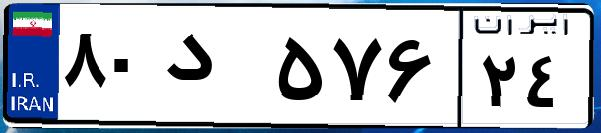0: (110, 28, 158, 98)
2: (475, 38, 525, 113)
4: (525, 38, 570, 115)
5: (270, 28, 330, 110)
6: (385, 28, 445, 110)
7: (330, 28, 385, 110)
8: (57, 26, 110, 100)
د: (158, 20, 270, 120)
